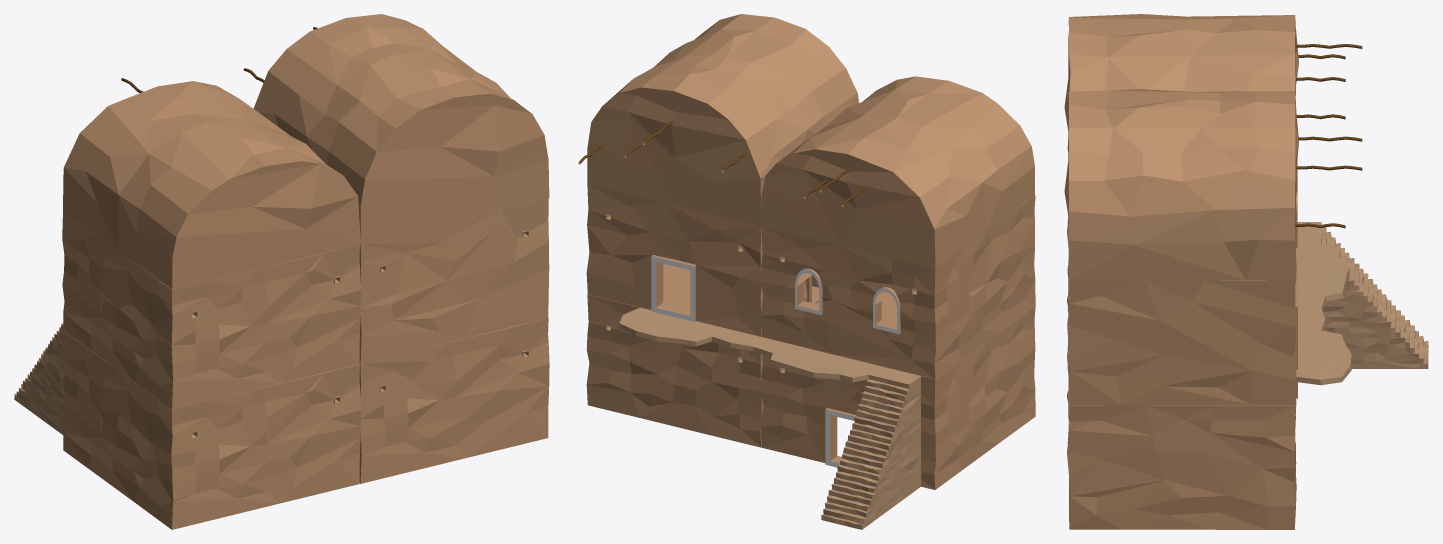
The model's file is Tunusia_V2_colored.fbx.
The picture shows the model from 3 angles, left to right: view 1: azimuth 30°, elevation 25°; view 2: azimuth 150°, elevation 25°; view 3: azimuth 270°, elevation 25°; orthographic projection. The views are drawn at different scales.
Visible parts, largest first — view 1: Tunisia V2; view 2: Tunisia V2; view 3: Tunisia V2.
Boxes of the visible parts, x1,y1,x2,y2 form: Tunisia V2: (14, 14, 549, 529); Tunisia V2: (578, 14, 1035, 529); Tunisia V2: (1064, 14, 1428, 529).
Size of the model in its own units: 1976 by 1823 by 1575.
Materials: 1 (1 with a texture image).
